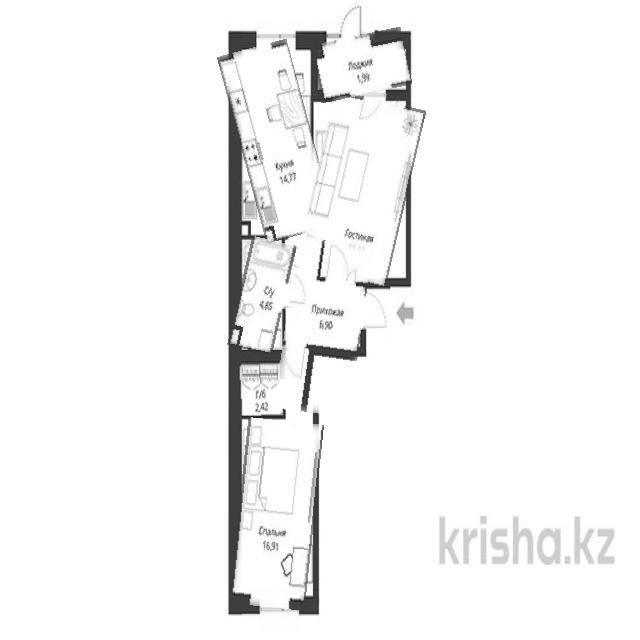balcony: (311, 31, 410, 98)
bathroom: (233, 238, 291, 353)
hallway: (275, 236, 368, 411)
kitchen: (229, 41, 324, 240)
living_room: (304, 94, 417, 284), (234, 418, 320, 608)
other: (237, 362, 284, 416)
